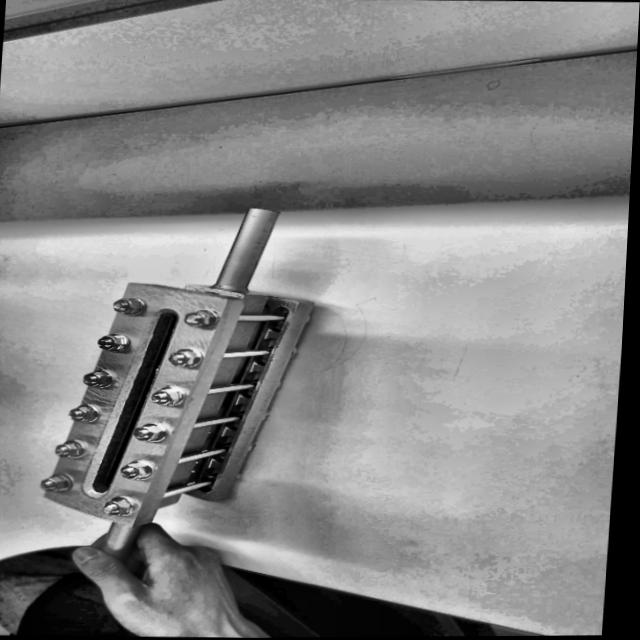ShuiWeiQi_12: (31, 198, 335, 540)
